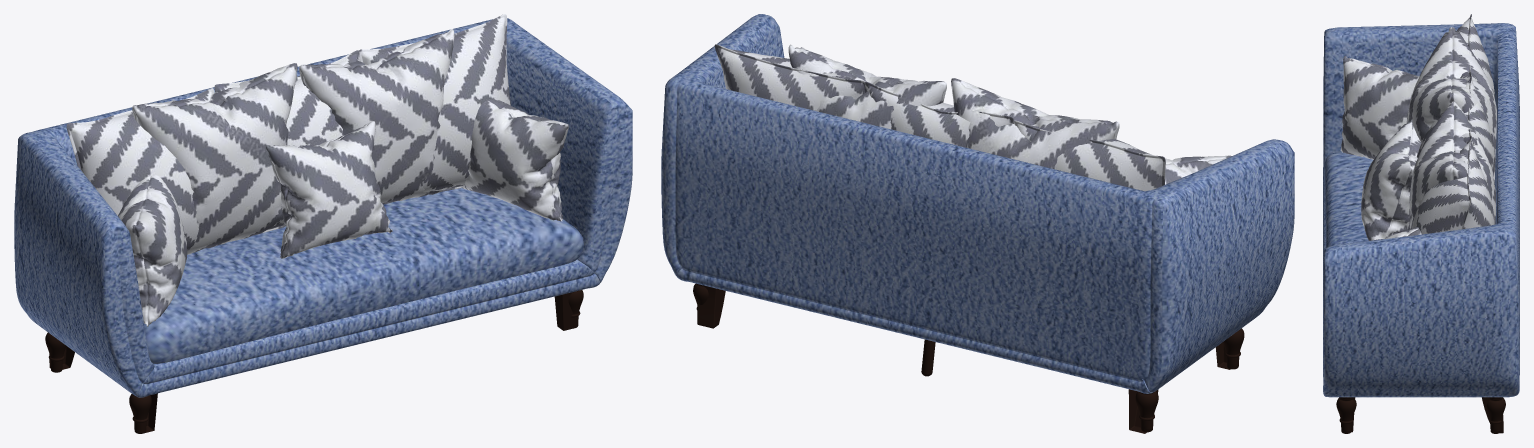
The picture shows the model from 3 angles, left to right: view 1: azimuth 30°, elevation 25°; view 2: azimuth 150°, elevation 25°; view 3: azimuth 270°, elevation 25°; orthographic projection. The views are drawn at different scales.
Parts seen in each view (by area): view 1: pillow_02_geo, couch, seat, pillow_01_geo, Legs_02_geo, Legs_01_geo; view 2: couch, pillow_02_geo, pillow_01_geo, Legs_01_geo, Legs_02_geo; view 3: couch, pillow_02_geo, pillow_01_geo, seat, Legs_02_geo, Legs_01_geo.
Boxes of the visible parts, x1=… form: pillow_02_geo: x1=118, y1=29, x2=568, y2=326; couch: x1=14, y1=18, x2=632, y2=397; seat: x1=144, y1=188, x2=583, y2=363; pillow_01_geo: x1=66, y1=14, x2=510, y2=250; Legs_02_geo: x1=45, y1=290, x2=583, y2=433; Legs_01_geo: x1=49, y1=290, x2=578, y2=432; couch: x1=661, y1=14, x2=1294, y2=393; pillow_02_geo: x1=788, y1=44, x2=1231, y2=184; pillow_01_geo: x1=714, y1=44, x2=1165, y2=191; Legs_01_geo: x1=697, y1=284, x2=1230, y2=433; Legs_02_geo: x1=693, y1=283, x2=1244, y2=432; couch: x1=1323, y1=23, x2=1519, y2=397; pillow_02_geo: x1=1340, y1=27, x2=1496, y2=240; pillow_01_geo: x1=1411, y1=14, x2=1494, y2=234; seat: x1=1324, y1=152, x2=1373, y2=247; Legs_02_geo: x1=1336, y1=397, x2=1505, y2=433; Legs_01_geo: x1=1339, y1=397, x2=1503, y2=433.
Size of the model in its own units: 2.09 by 1.03 by 0.7535.
Materials: 4 (3 with a texture image).
